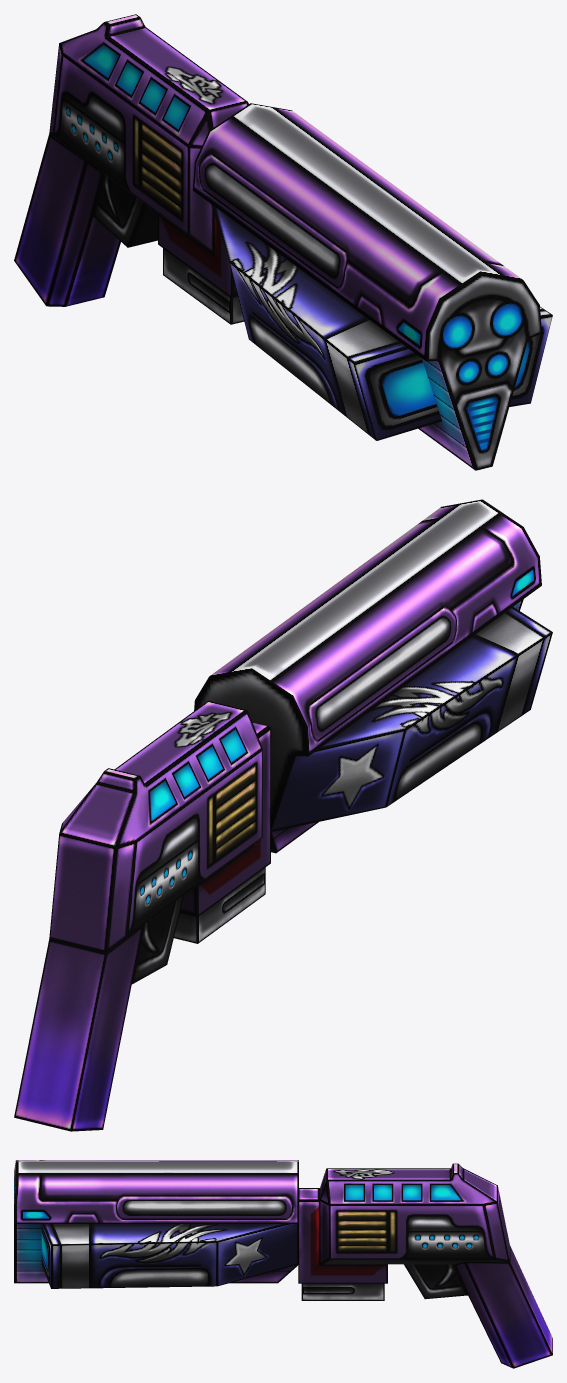
File: weapon_shotguns_05.FBX
3 renders of one model, top to bottom at view 1: azimuth 30°, elevation 25°; view 2: azimuth 150°, elevation 25°; view 3: azimuth 270°, elevation 25°, orthographic. The views are drawn at different scales.
Parts seen in each view (by area): view 1: weapon_shotguns_05; view 2: weapon_shotguns_05; view 3: weapon_shotguns_05.
Part boxes in pixels (x1,y1,x2,y2): weapon_shotguns_05: [14, 14, 552, 470]; weapon_shotguns_05: [14, 499, 552, 1131]; weapon_shotguns_05: [14, 1160, 552, 1368].
Bounding box in the file's own units: 50.94 × 79.73 × 196.
